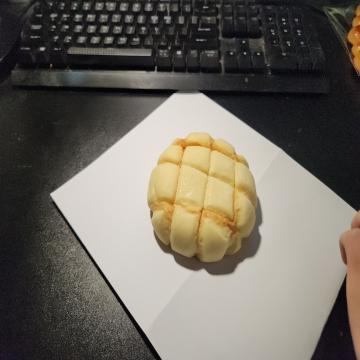melon_bread: (144, 131, 258, 268)
